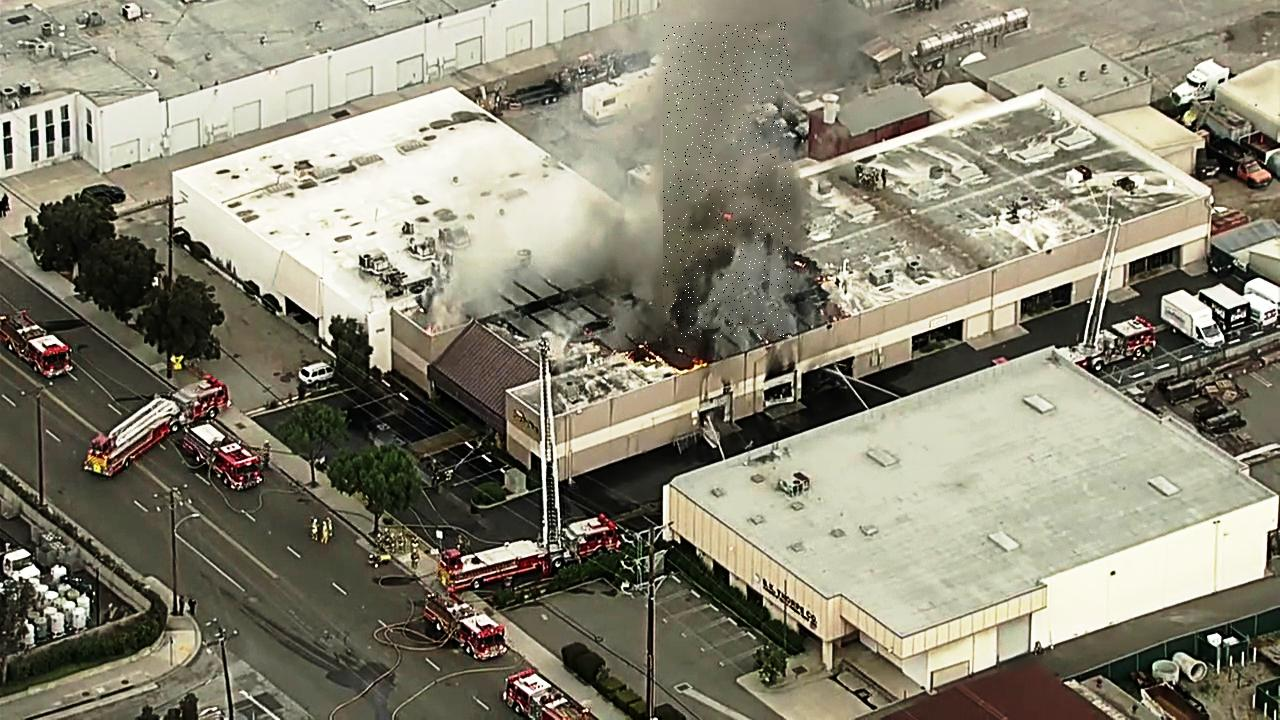smoke: (664, 23, 793, 339)
